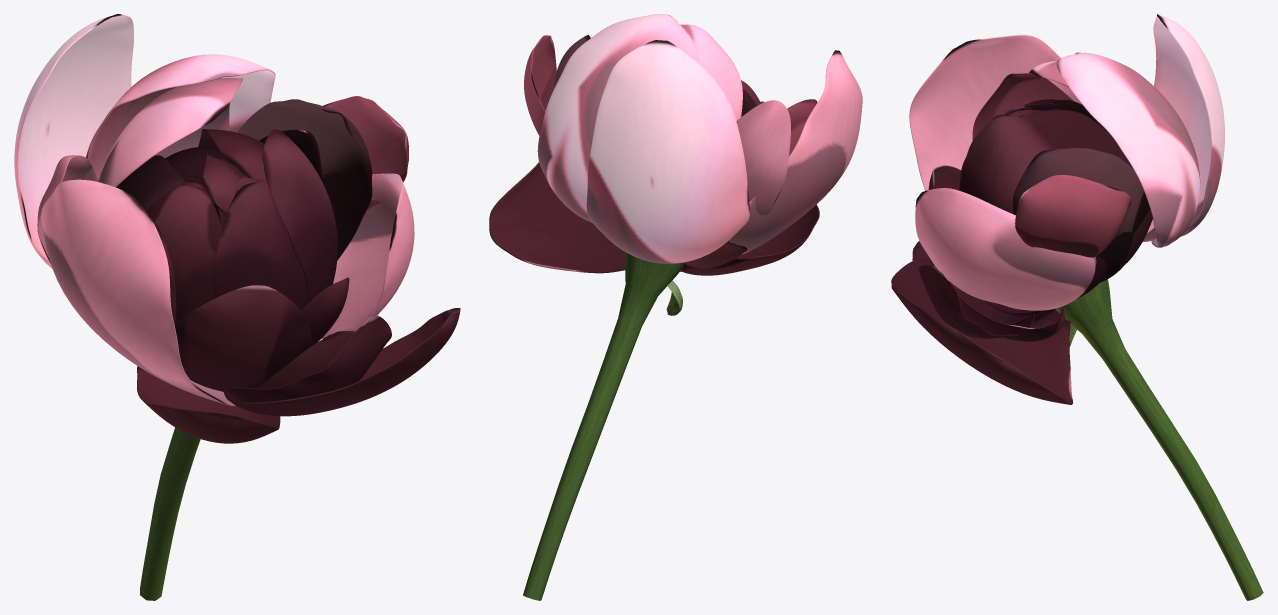
File: ranunculus.glb
3 renders of one model, left to right at view 1: azimuth 30°, elevation 25°; view 2: azimuth 150°, elevation 25°; view 3: azimuth 270°, elevation 25°, orthographic. The views are drawn at different scales.
Visible parts, largest first — view 1: RanunculusPetal_05, RanunculusPetal_10, RanunculusPetal_18, RanunculusPetal_12, RanunculusPetal_22, RanunculusPetal_06, RanunculusPetal_23, RanunculusPetal_17, RanunculusPetal_19, RanunculusPetal_21, RanunculusPetal_03, RanunculusPetal_13 (+11 smaller); view 2: RanunculusPetal_10, RanunculusPetal_19, RanunculusStem, RanunculusPetal_05, RanunculusPetal_03, RanunculusPetal_02, RanunculusPetal_13, RanunculusPetal_07, RanunculusPetal_23, RanunculusPetal_16, RanunculusPetal_04; view 3: RanunculusPetal_12, RanunculusPetal_19, RanunculusPetal_05, RanunculusStem, RanunculusPetal_03, RanunculusPetal_10, RanunculusPetal_07, RanunculusPetal_17, RanunculusPetal_06, RanunculusPetal_24, RanunculusPetal_04, RanunculusPetal_09 (+5 smaller).
Part boxes in pixels (x1,y1,x2,y2): RanunculusPetal_05: (41, 179, 235, 406); RanunculusPetal_10: (14, 14, 133, 268); RanunculusPetal_18: (174, 285, 311, 391); RanunculusPetal_12: (321, 173, 414, 338); RanunculusPetal_22: (212, 181, 308, 310); RanunculusPetal_06: (237, 99, 372, 260); RanunculusPetal_23: (98, 78, 242, 187); RanunculusPetal_17: (262, 129, 337, 302); RanunculusPetal_19: (86, 54, 275, 179); RanunculusPetal_21: (147, 185, 222, 322); RanunculusPetal_03: (222, 308, 460, 416); RanunculusPetal_13: (137, 366, 280, 443); RanunculusPetal_10: (586, 40, 749, 263); RanunculusPetal_19: (537, 14, 698, 222); RanunculusStem: (523, 252, 684, 600); RanunculusPetal_05: (728, 50, 862, 254); RanunculusPetal_03: (489, 162, 625, 273); RanunculusPetal_02: (736, 100, 790, 215); RanunculusPetal_13: (680, 204, 819, 275); RanunculusPetal_07: (524, 35, 556, 135); RanunculusPetal_23: (680, 24, 742, 120); RanunculusPetal_16: (684, 241, 747, 268); RanunculusPetal_04: (787, 99, 817, 156); RanunculusPetal_12: (915, 188, 1096, 310); RanunculusPetal_19: (1056, 52, 1200, 247); RanunculusPetal_05: (909, 34, 1061, 190); RanunculusStem: (1055, 279, 1263, 600); RanunculusPetal_03: (891, 257, 1072, 404); RanunculusPetal_10: (1153, 14, 1224, 236); RanunculusPetal_07: (1015, 175, 1131, 257); RanunculusPetal_17: (959, 115, 1107, 298); RanunculusPetal_06: (1012, 148, 1149, 239); RanunculusPetal_24: (1019, 110, 1152, 270); RanunculusPetal_04: (972, 73, 1073, 140); RanunculusPetal_09: (918, 265, 1034, 338).
Size of the model in its own units: 5.2 by 8.15 by 5.06.
Materials: 3 (3 with a texture image).
